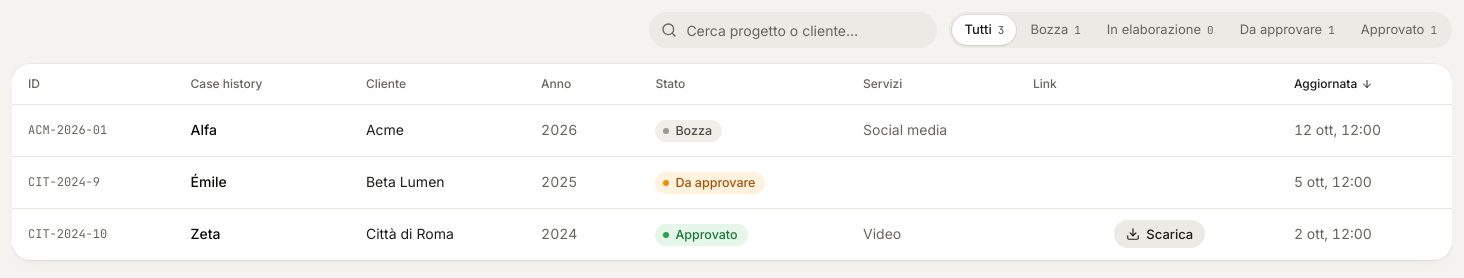
Scenario: CaseStudiesTable › matches a uuid fragment (not searchable)
The image size is (1464, 278).
Type "cccccccc-0000" into the search field labelled "Cerca progetto o cliente" at (793, 30), box [649,12,937,48]
Wait 250 ms
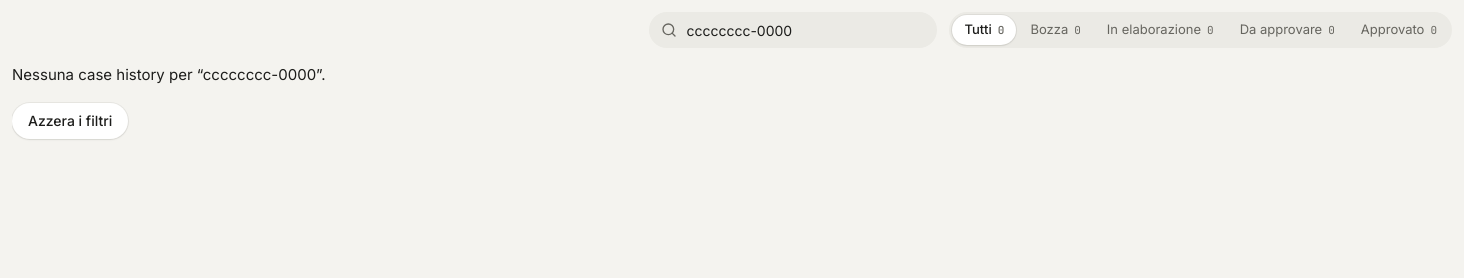
Expected: the table is gone
